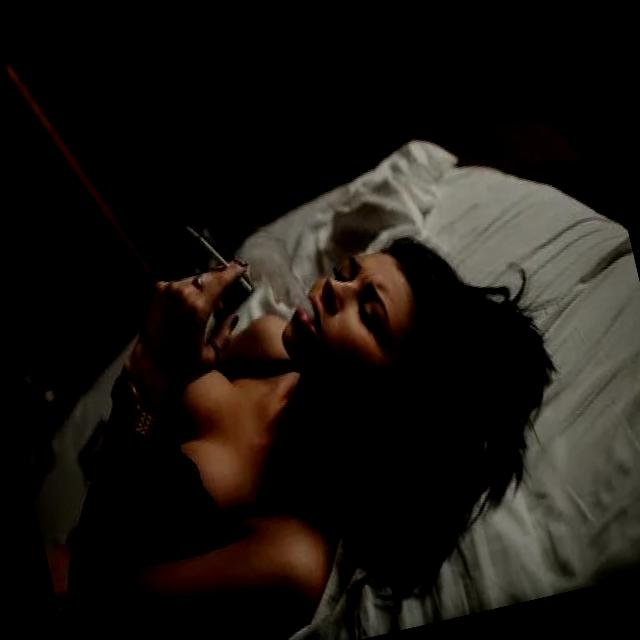smoke: (178, 206, 258, 311)
